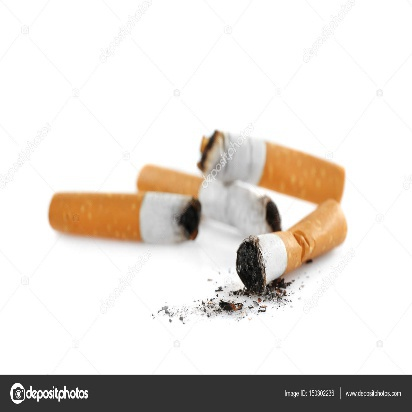cigarette: (196, 122, 350, 206), (233, 197, 356, 297), (44, 184, 203, 255)
